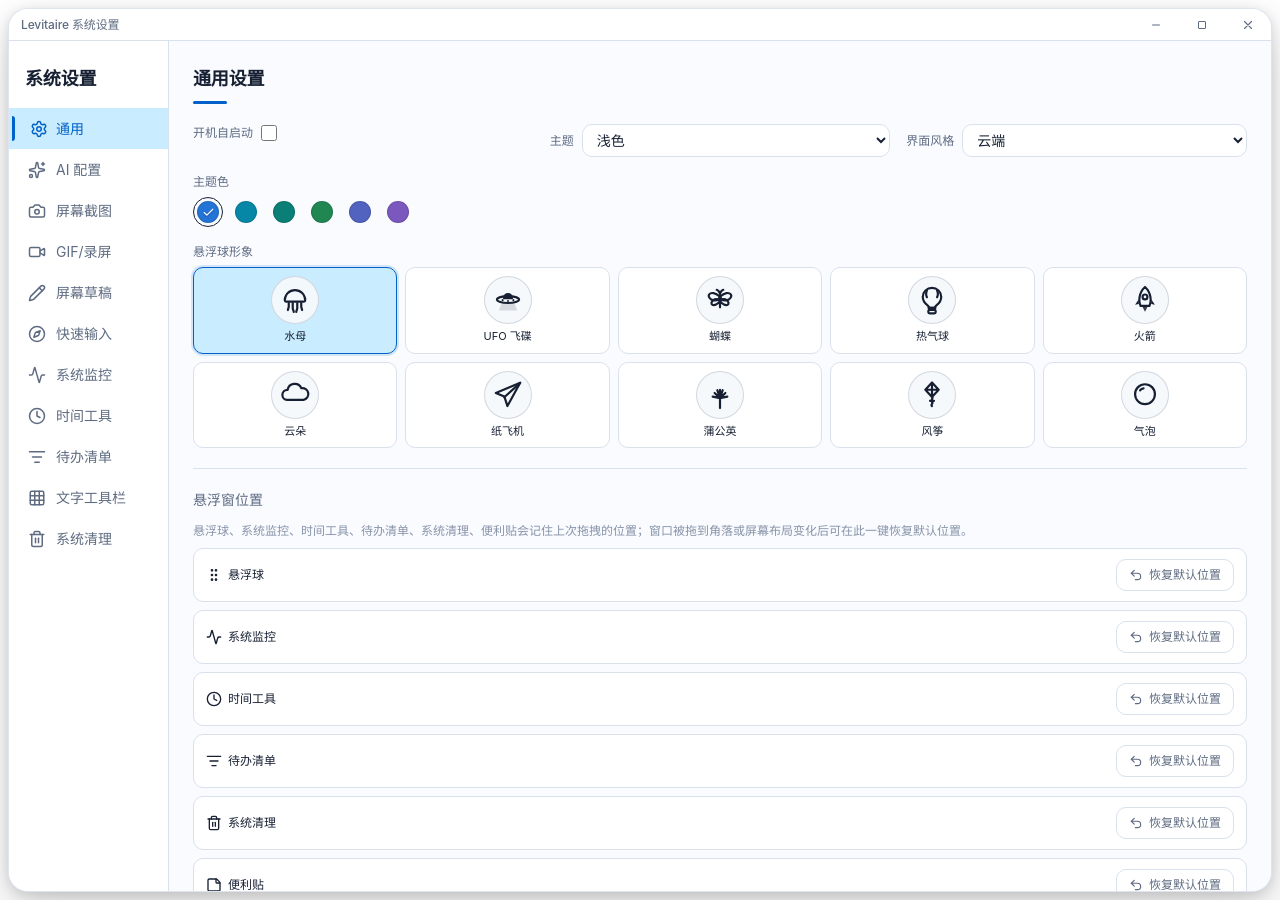
Test: Settings 快速输入音效反馈 › 渲染开关与三档参数，默认从后端读取
Step 1. Click the button "快速输入" → (88,334), box [9,313,168,354]
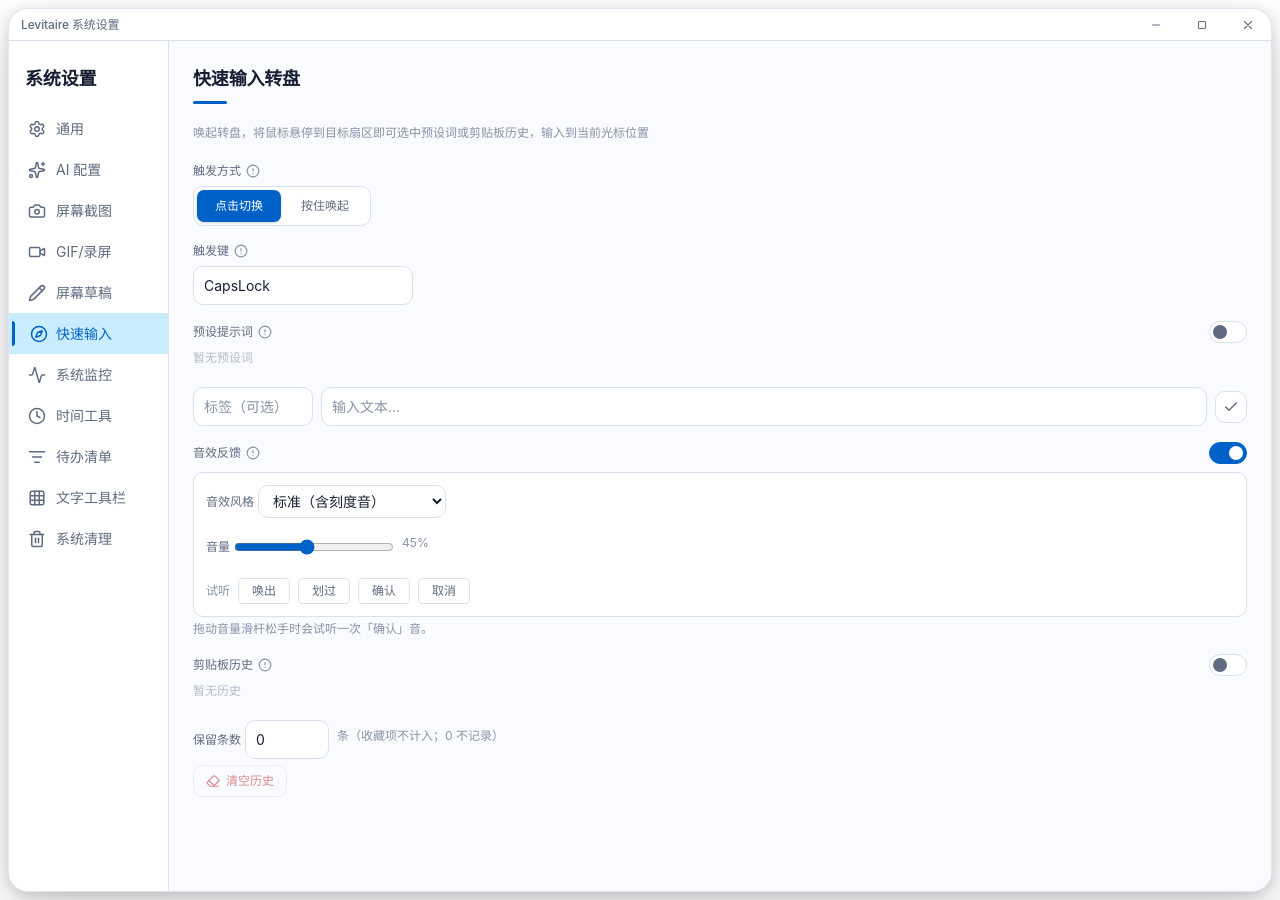
Result: the dropdown labelled "音效风格" shows "标准（含刻度音）" at [258,485,446,518]
Result: the slider labelled "音量" holds "45" at [234,539,394,555]
